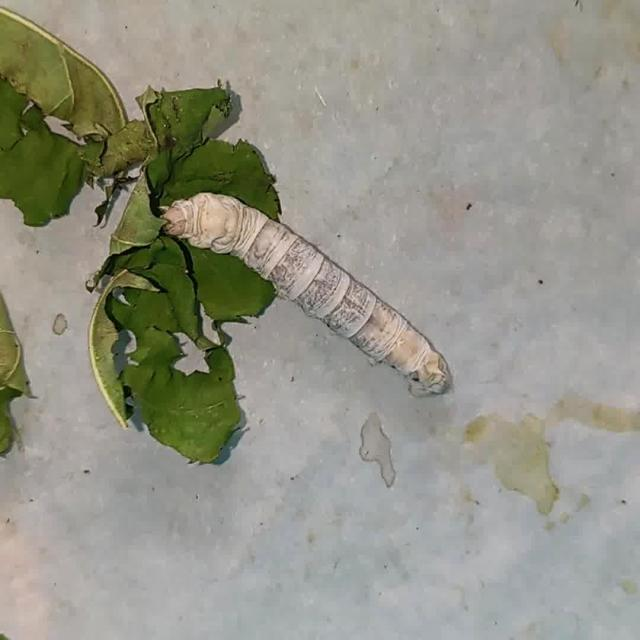Grasserie: (152, 174, 455, 407)
